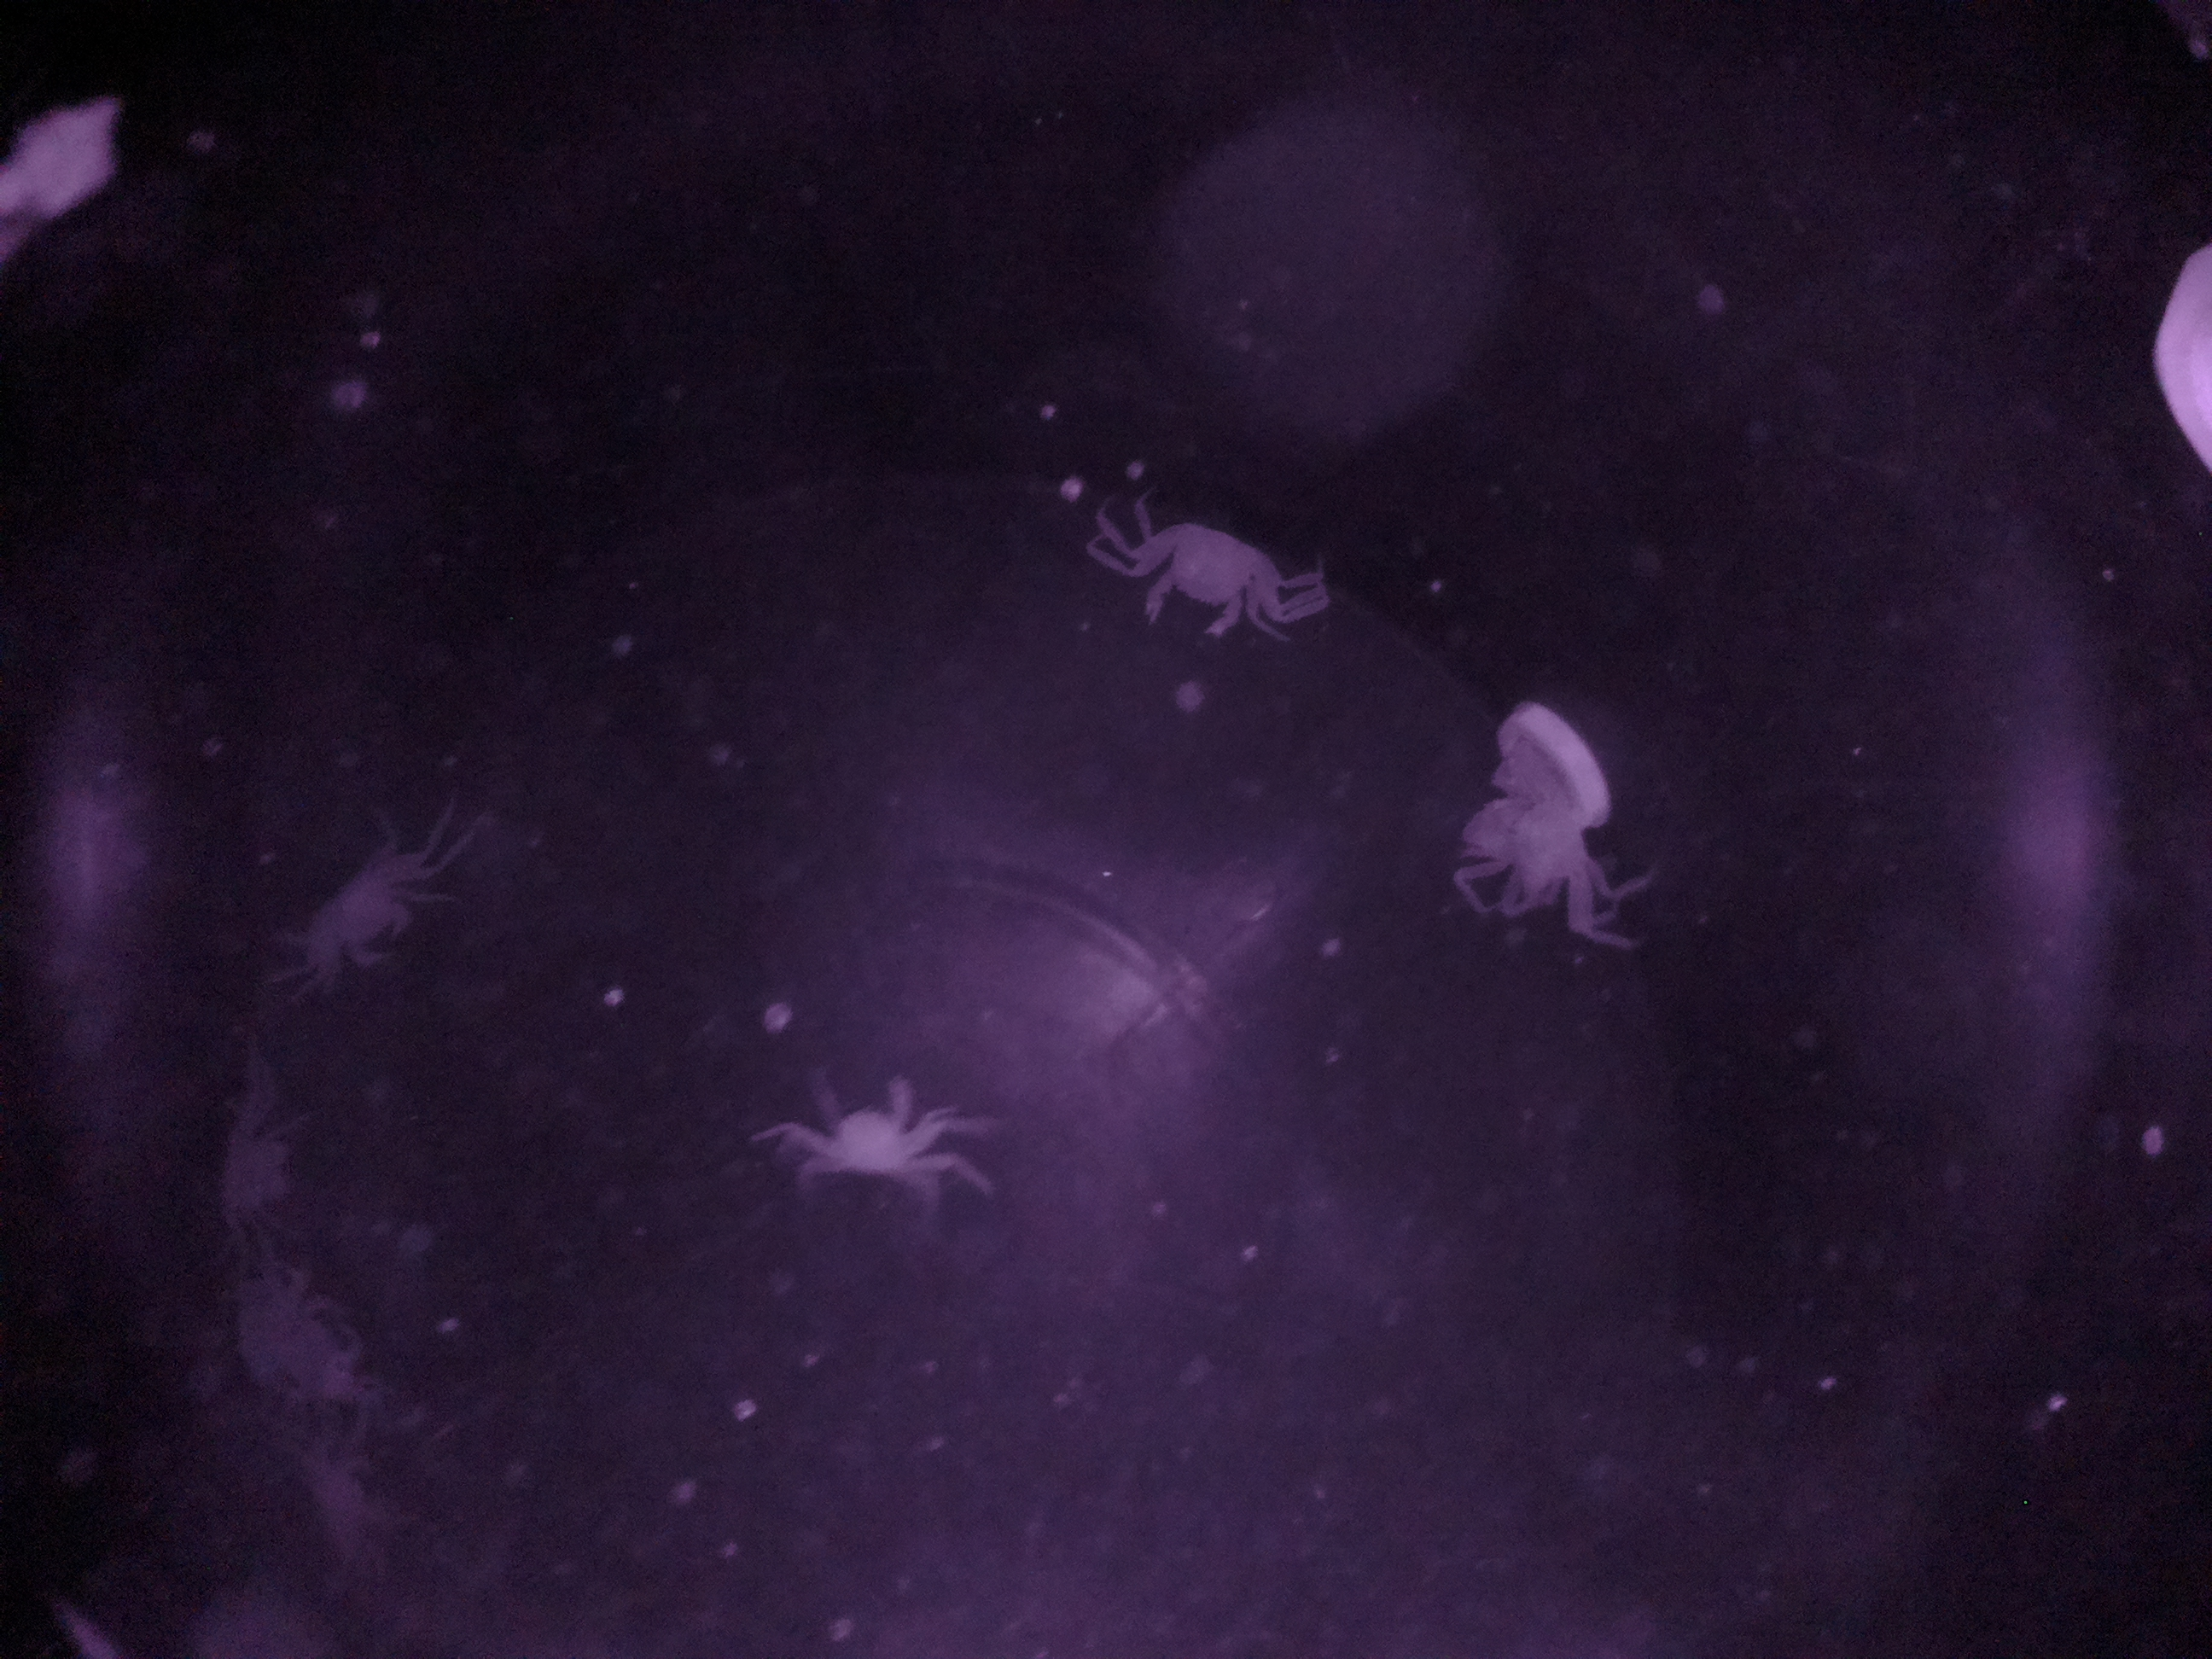Crab: (1087, 502, 1325, 650), (768, 1030, 967, 1208), (280, 826, 465, 1000)
